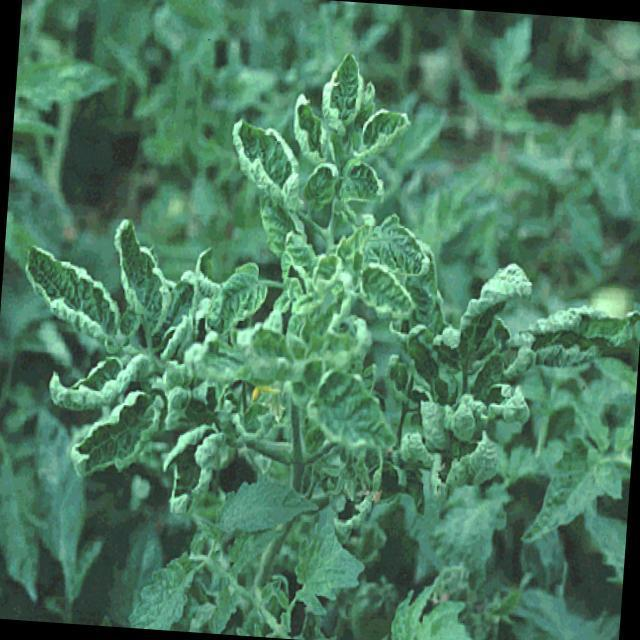Yellow Curl Virus: (16, 237, 121, 346), (65, 384, 156, 483), (107, 211, 173, 340), (224, 118, 298, 203), (201, 262, 274, 332), (317, 56, 368, 135), (352, 264, 420, 320), (284, 88, 330, 162), (360, 104, 414, 154), (344, 160, 390, 206), (302, 158, 340, 210)
